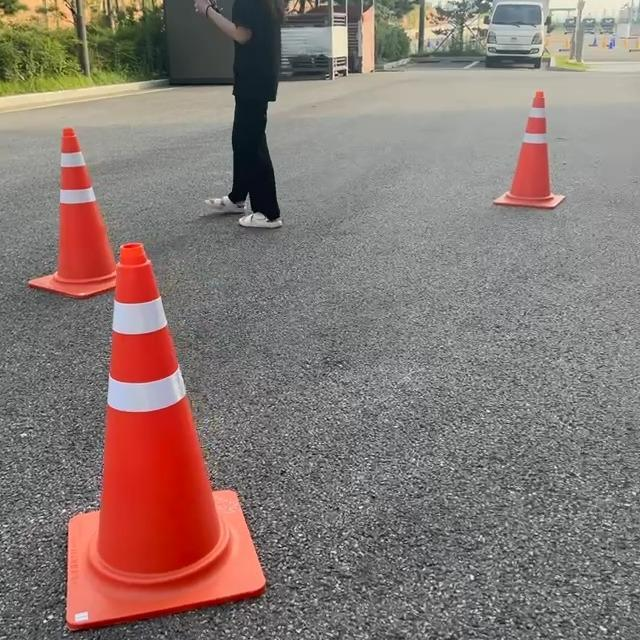fallen_object: (55, 229, 286, 640), (20, 113, 144, 312), (476, 66, 593, 251)
